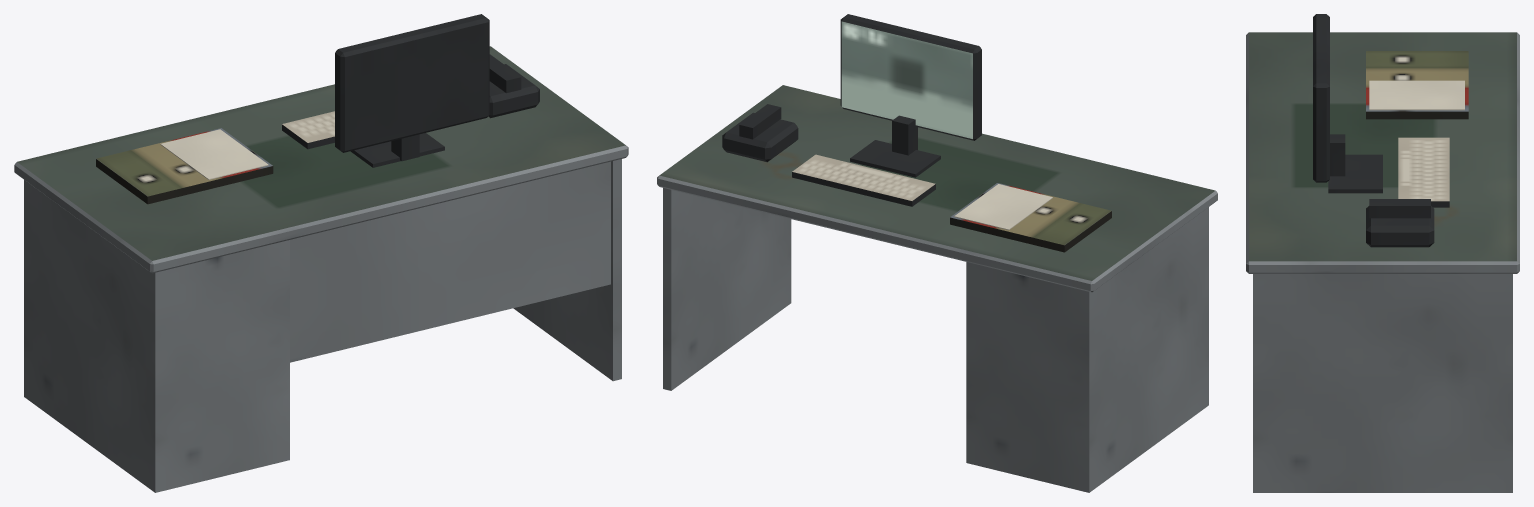
File: guard_desk.fbx
3 renders of one model, left to right at view 1: azimuth 30°, elevation 25°; view 2: azimuth 150°, elevation 25°; view 3: azimuth 270°, elevation 25°, orthographic. The views are drawn at different scales.
Visible parts, largest first — view 1: guard_desk, guard_desk_monitor, guard_desk_log, guard_desk_phone, guard_desk_keyboard; view 2: guard_desk, guard_desk_monitor, guard_desk_log, guard_desk_keyboard, guard_desk_phone; view 3: guard_desk, guard_desk_log, guard_desk_monitor, guard_desk_keyboard, guard_desk_phone.
Part boxes in pixels (box(x1,y1,x2,y2)): guard_desk: box(14, 46, 628, 492); guard_desk_monitor: box(335, 14, 489, 167); guard_desk_log: box(96, 128, 273, 204); guard_desk_phone: box(488, 54, 539, 118); guard_desk_keyboard: box(282, 111, 334, 149); guard_desk: box(657, 85, 1217, 492); guard_desk_monitor: box(840, 14, 981, 177); guard_desk_log: box(950, 183, 1111, 252); guard_desk_keyboard: box(792, 154, 935, 206); guard_desk_phone: box(722, 104, 798, 162); guard_desk: box(1246, 32, 1519, 492); guard_desk_log: box(1366, 51, 1468, 119); guard_desk_monitor: box(1313, 14, 1382, 193); guard_desk_keyboard: box(1398, 137, 1449, 207); guard_desk_phone: box(1366, 199, 1434, 247).
Size of the model in its own units: 1.6 by 1.16 by 0.8.
Materials: 1 (1 with a texture image).
